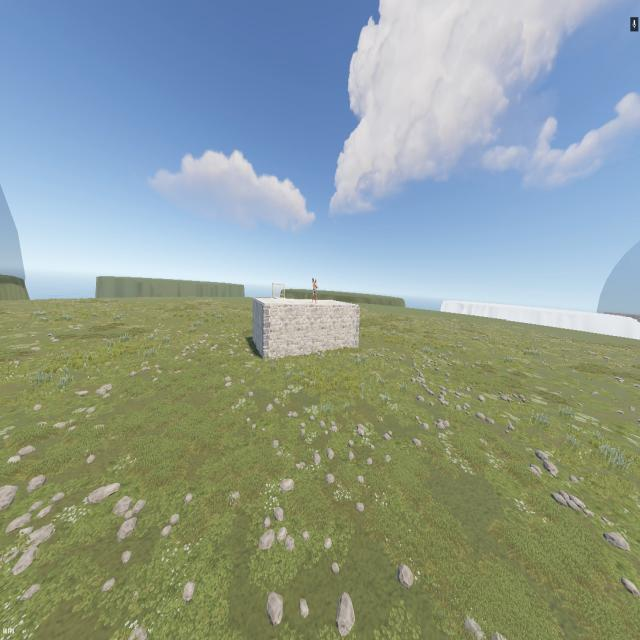Player: (311, 276, 318, 304)
